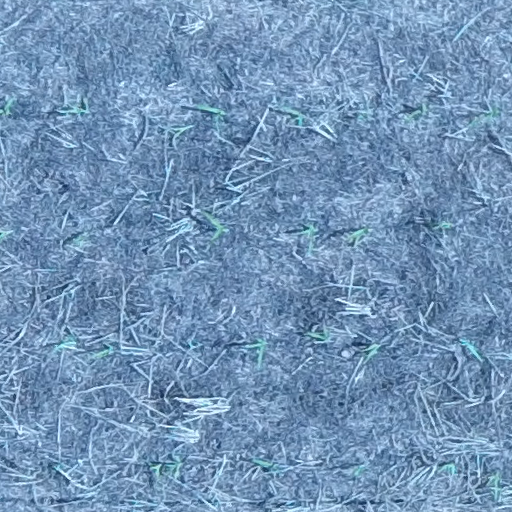planta: (203, 210, 227, 243), (248, 337, 267, 363), (486, 472, 503, 500), (300, 223, 316, 250), (462, 339, 483, 359), (347, 226, 369, 245), (284, 106, 305, 125), (405, 105, 428, 122), (197, 103, 225, 116), (54, 335, 76, 351), (253, 458, 278, 472), (307, 328, 330, 342), (363, 344, 381, 361), (57, 103, 87, 113), (93, 344, 113, 358), (437, 462, 457, 473), (429, 222, 453, 229)
